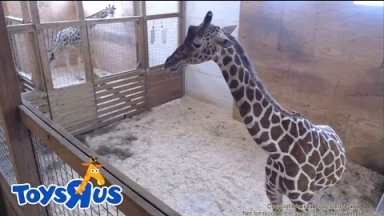Jirafa: (157, 9, 307, 157), (88, 4, 126, 25)
